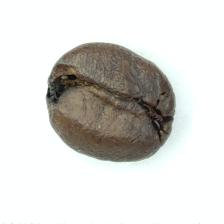NG: (42, 57, 84, 117)
